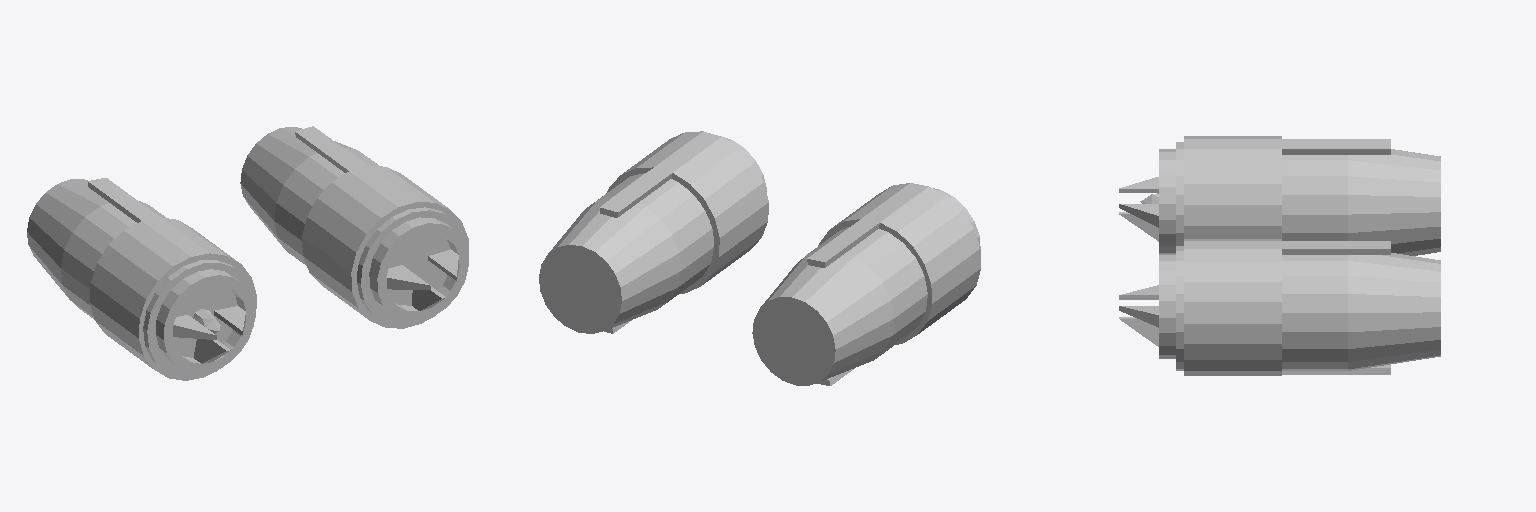
Rendered from Light_G2Engine.obj.
3 renders of one model, left to right at view 1: azimuth 30°, elevation 25°; view 2: azimuth 150°, elevation 25°; view 3: azimuth 270°, elevation 25°, orthographic.
Visible parts, largest first — view 1: polySurface50 polySurface71, polySurface56 polySurface65, polySurface50 polySurface72, polySurface56 polySurface66, polySurface64 polySurface56, polySurface70 polySurface50; view 2: polySurface56 polySurface65, polySurface50 polySurface71, polySurface50 polySurface72, polySurface56 polySurface66; view 3: polySurface50 polySurface71, polySurface50 polySurface72, polySurface56 polySurface65, polySurface56 polySurface66, polySurface70 polySurface50, polySurface64 polySurface56.
Part boxes in pixels (x1,y1,x2,y2): polySurface50 polySurface71: (240,127,468,326); polySurface56 polySurface65: (27,179,255,378); polySurface50 polySurface72: (295,126,468,328); polySurface56 polySurface66: (88,178,256,380); polySurface64 polySurface56: (156,269,254,373); polySurface70 polySurface50: (369,217,468,320); polySurface56 polySurface65: (752,202,978,385); polySurface50 polySurface71: (539,154,758,333); polySurface50 polySurface72: (600,131,768,333); polySurface56 polySurface66: (807,183,980,385); polySurface50 polySurface71: (1176,246,1440,370); polySurface50 polySurface72: (1184,239,1390,375); polySurface56 polySurface65: (1176,142,1440,255); polySurface56 polySurface66: (1184,136,1390,238); polySurface70 polySurface50: (1119,254,1175,358); polySurface64 polySurface56: (1119,149,1175,253).
Size of the model in its own units: 5.37 by 1.92 by 4.54.